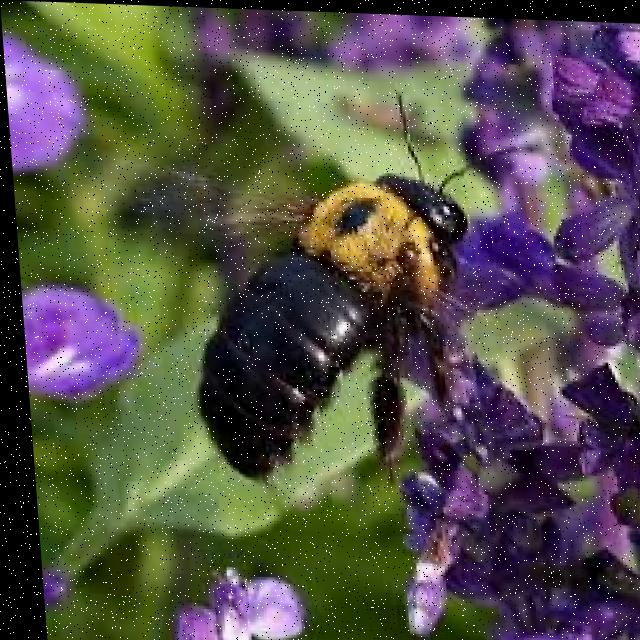Xylocopa: (116, 93, 528, 505)
